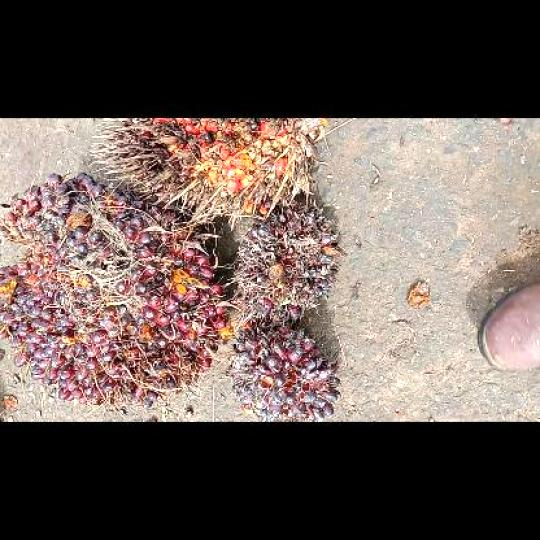masak: (0, 170, 230, 409)
terlalu masak: (85, 119, 323, 234)
